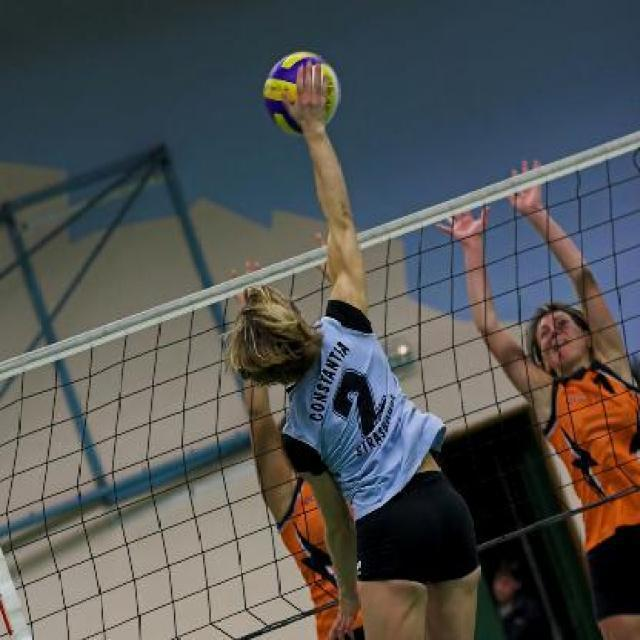volleyball: (264, 52, 339, 136)
